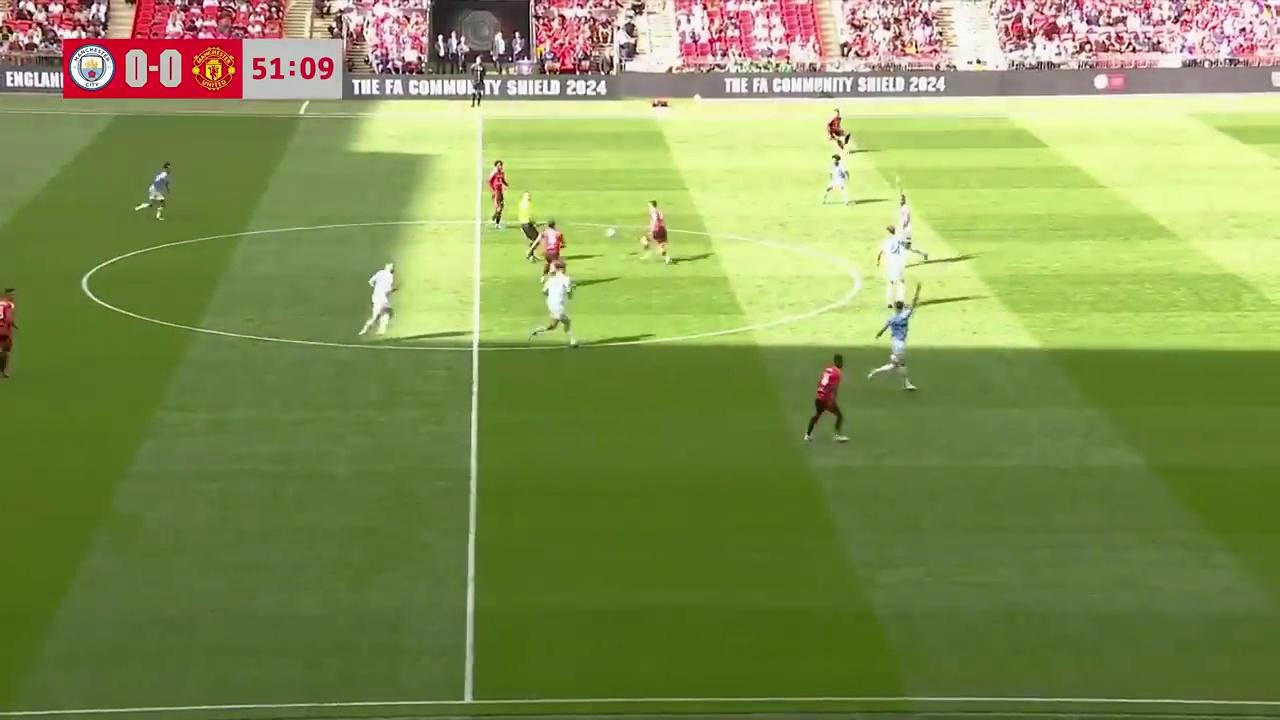ball: (606, 229, 617, 241)
player: (803, 354, 851, 445), (529, 265, 579, 349), (867, 303, 914, 385), (358, 261, 396, 336), (875, 224, 906, 300), (134, 161, 172, 220), (897, 194, 927, 266), (636, 199, 668, 261), (0, 287, 17, 379), (487, 160, 509, 229), (821, 154, 850, 205), (542, 220, 567, 278), (826, 109, 850, 154)
referee: (516, 189, 544, 264)
